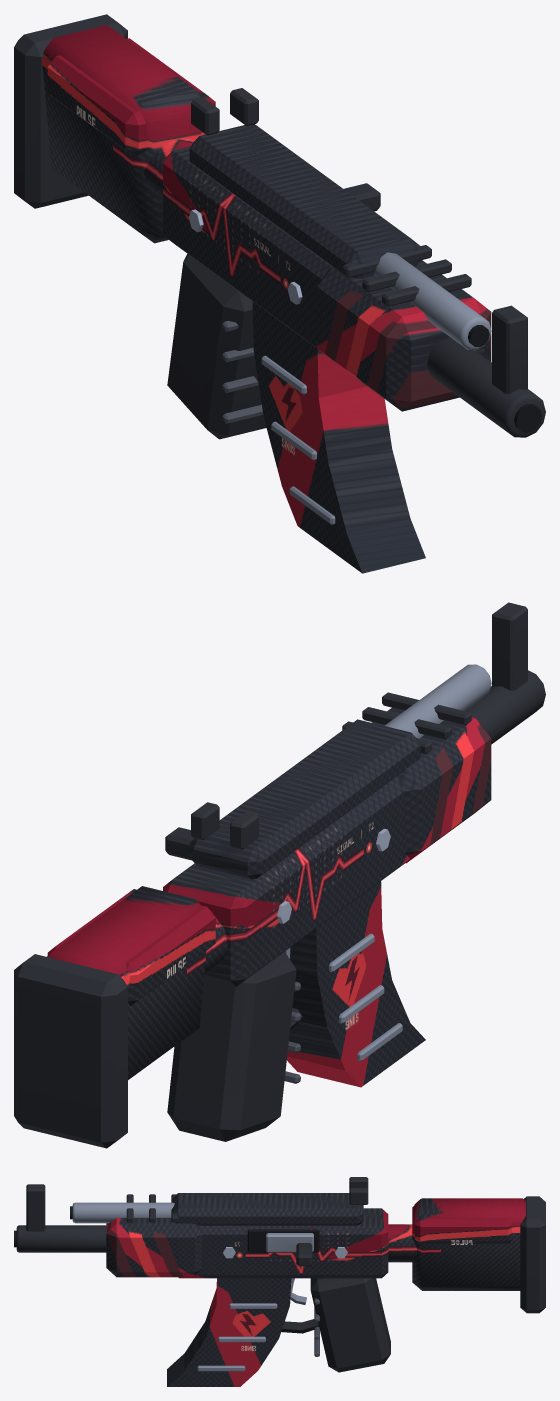
The model's file is AK_Pulse.glb.
The picture shows the model from 3 angles, top to bottom: view 1: azimuth 30°, elevation 25°; view 2: azimuth 150°, elevation 25°; view 3: azimuth 270°, elevation 25°; orthographic projection. The views are drawn at different scales.
Visible parts, largest first — view 1: Main, Stock, Magazine; view 2: Main, Stock, Magazine, Bolt; view 3: Main, Stock, Magazine, Bolt.
Part boxes in pixels (x1,y1,x2,y2): Main: (163, 88, 545, 439); Stock: (14, 14, 215, 243); Magazine: (252, 301, 425, 573); Main: (163, 602, 545, 1141); Stock: (14, 886, 227, 1148); Magazine: (287, 881, 425, 1087); Bolt: (165, 827, 194, 860); Main: (14, 1177, 390, 1372); Stock: (388, 1196, 545, 1313); Magazine: (167, 1278, 291, 1386); Bolt: (266, 1233, 313, 1266).
Size of the model in its own units: 0.635 by 1.34 by 3.33.
Materials: 2 (1 with a texture image).
